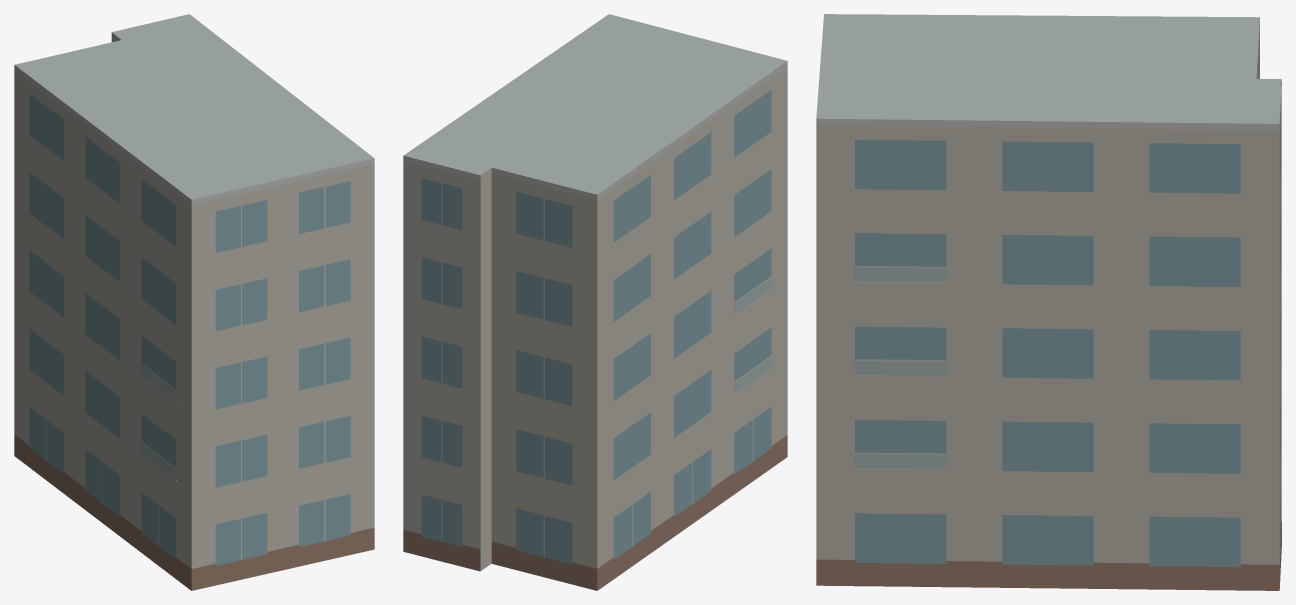
Rendered from survey-upis-32983449.glb.
3 views of the same model, side by side, from view 1: azimuth 30°, elevation 25°; view 2: azimuth 150°, elevation 25°; view 3: azimuth 270°, elevation 25° (orthographic). The views are drawn at different scales.
Visible parts, largest first — view 1: survey-upis-32983449.tmp; view 2: survey-upis-32983449.tmp; view 3: survey-upis-32983449.tmp.
Part boxes in pixels (x1,y1,x2,y2): survey-upis-32983449.tmp: [14, 14, 374, 590]; survey-upis-32983449.tmp: [403, 14, 787, 590]; survey-upis-32983449.tmp: [816, 14, 1281, 590].
Size of the model in its own units: 8.47 by 16.72 by 15.12.
